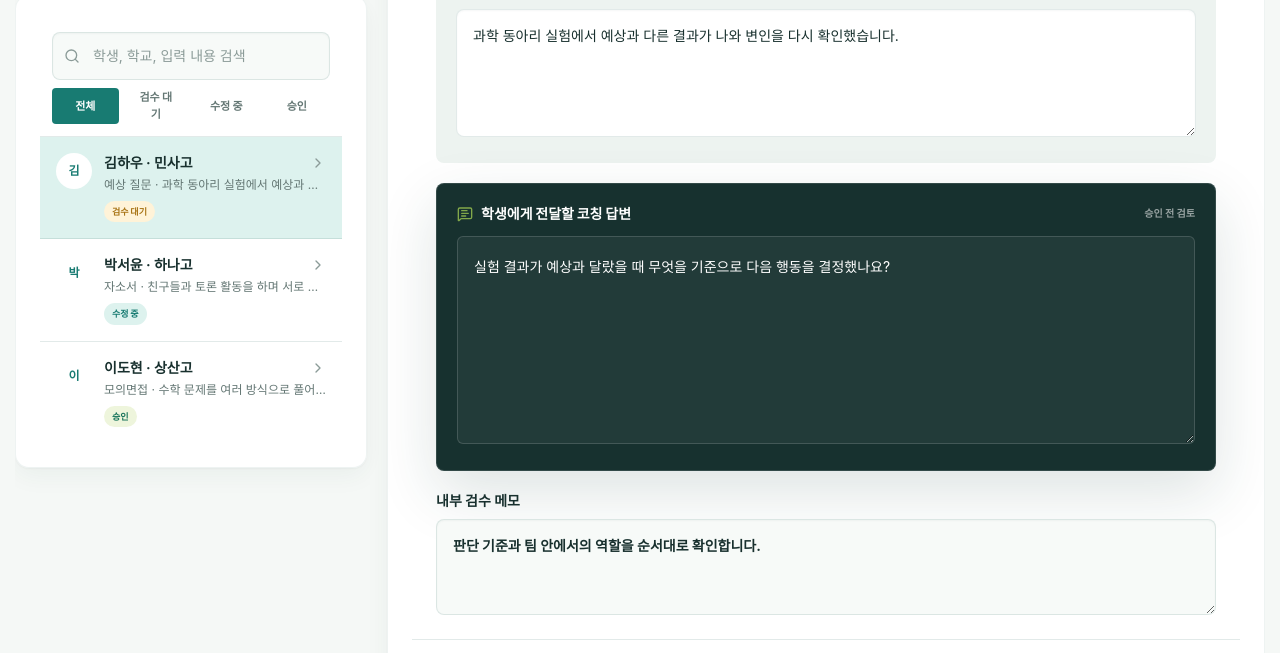
ResponseReviewPanel › updates and approves an AI coaching response
The width and height of the screenshot is (1280, 653).
(page scrolled)
Replace the text in the text box named "최종 코칭 답변 수정" with "전문가가 직접 수정한 최종 코칭 답변". click: coordinates (826, 340)
box: [457,236,1195,444]
(page scrolled)
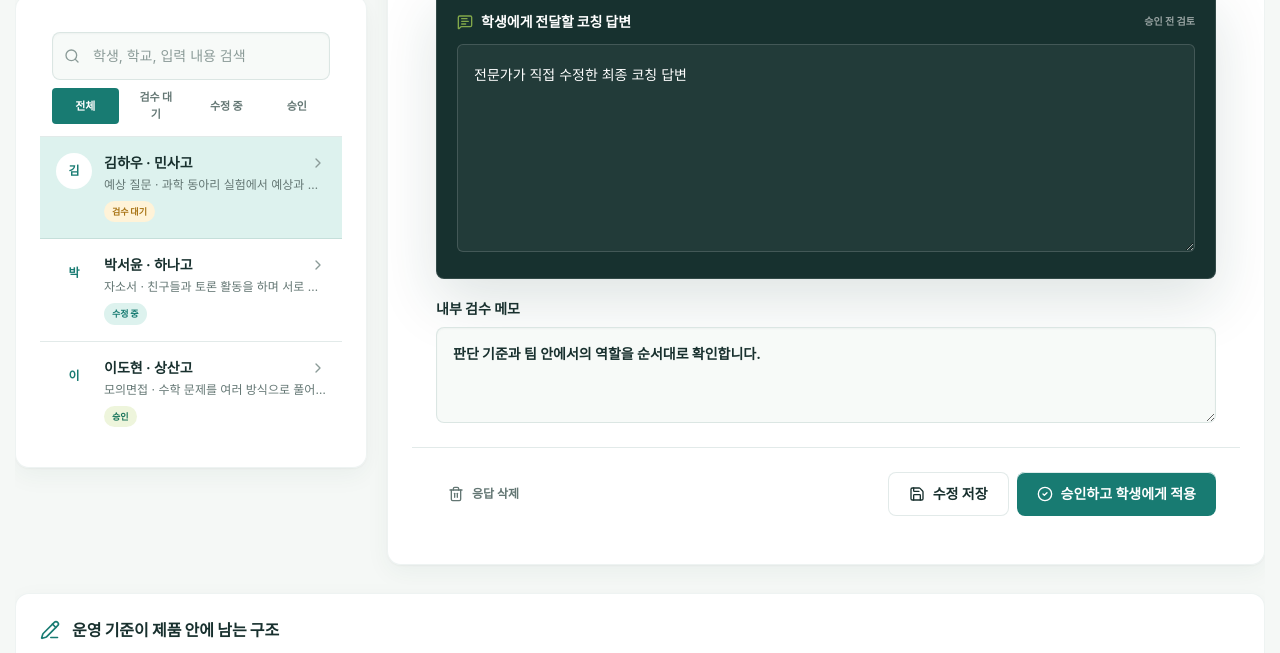
Click the button "승인하고 학생에게 적용". click: coordinates (1116, 494)
box: [1017,472,1216,516]
(page scrolled)
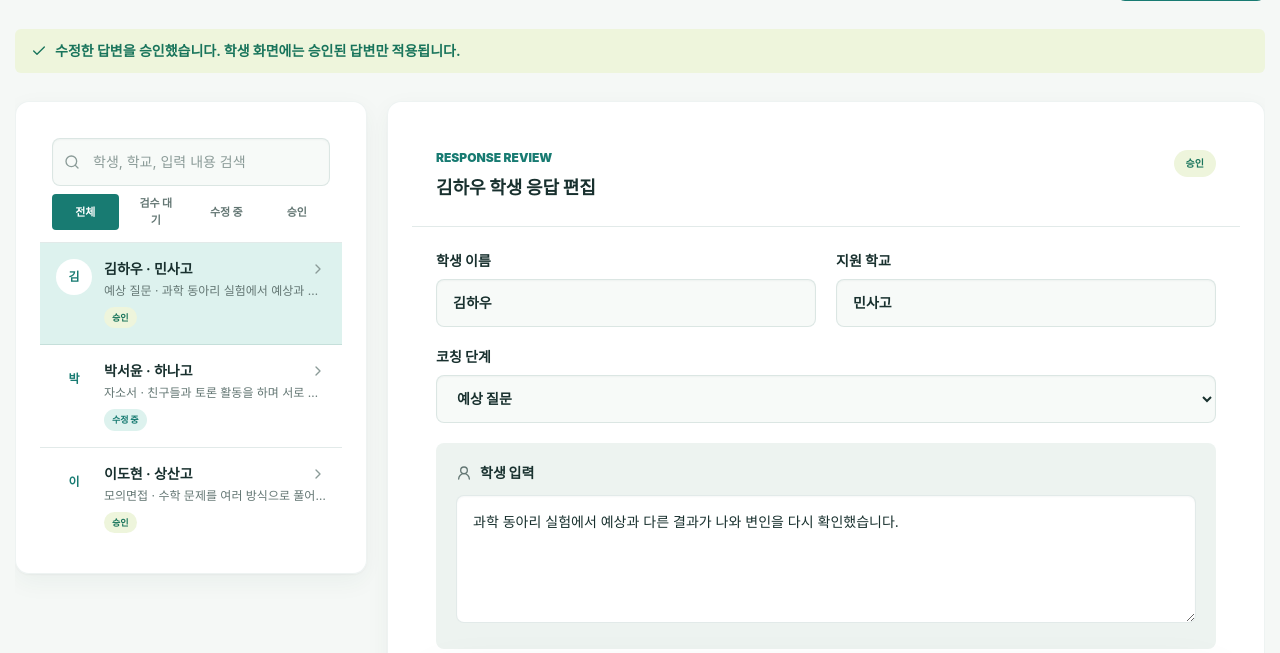
Check: the message shows "승인된 답변만 적용됩니다", box [55,42,461,59]
